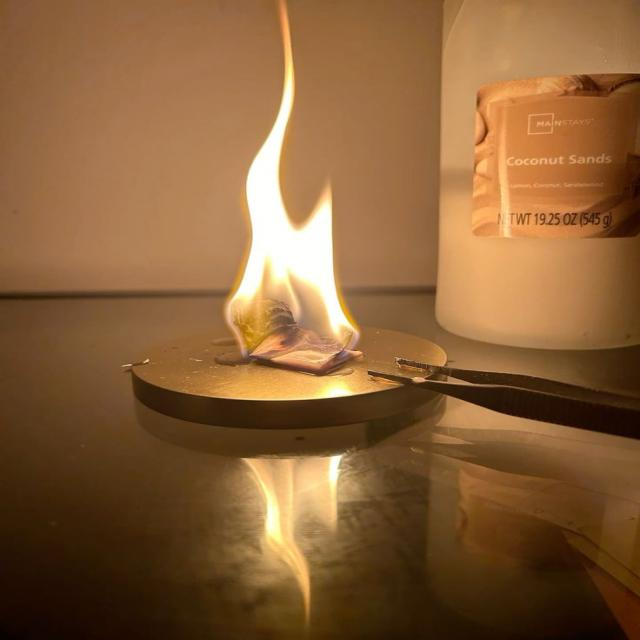fire: (226, 0, 356, 360)
